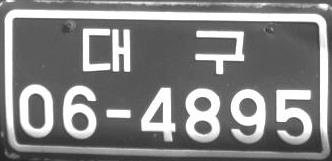0: (18, 82, 54, 138)
4: (141, 87, 176, 142)
5: (274, 88, 313, 145)
6: (61, 83, 96, 140)
8: (184, 86, 220, 143)
9: (229, 87, 266, 144)
대구_D: (81, 26, 244, 75)
